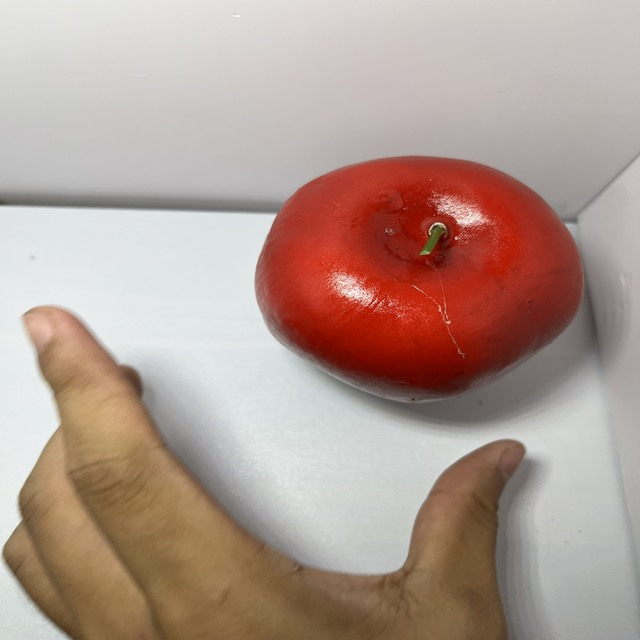Tao: (245, 149, 595, 408)
